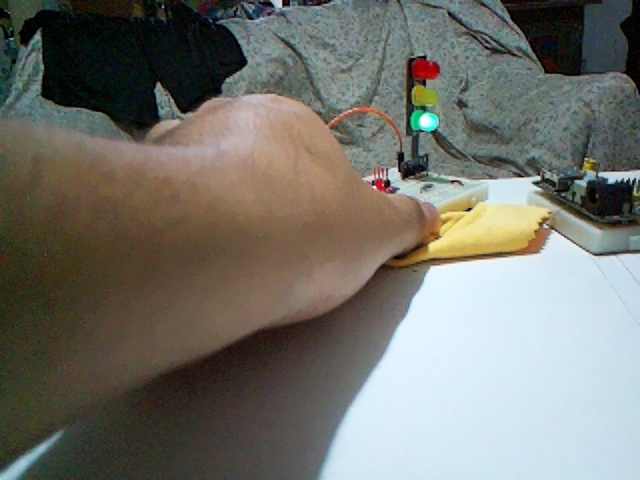traffic_light_green: (409, 57, 439, 142)
